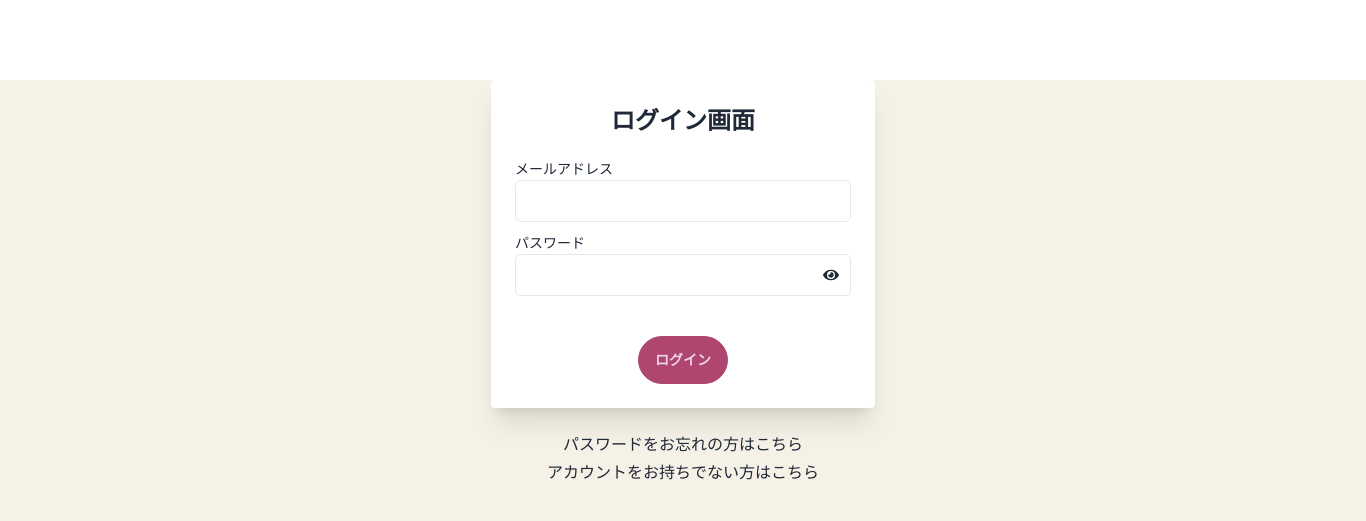
Test: Loginコンポーネントのテスト › エラー時のテスト › バリデーションエラー時のテスト › メールアドレスのバリデーションエラー › メールアドレスが空の場合
Click the button "ログイン" at (683, 360), box left=638, top=336, right=728, bottom=384
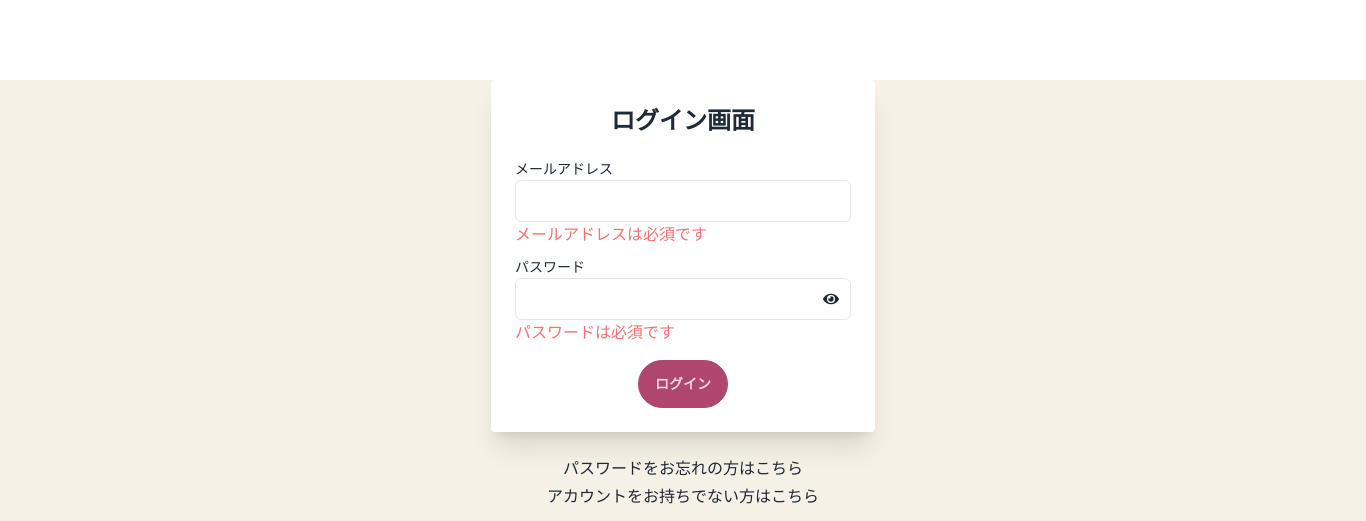
Check: the text "メールアドレスは必須です" is shown, box left=515, top=223, right=707, bottom=245
